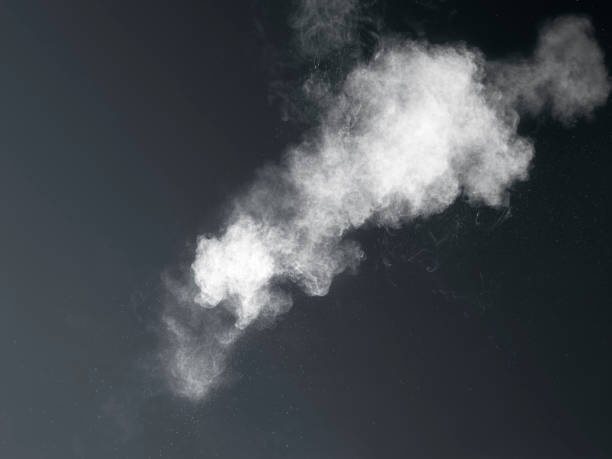smoke: (293, 37, 534, 225), (190, 212, 329, 321), (528, 17, 611, 128)
